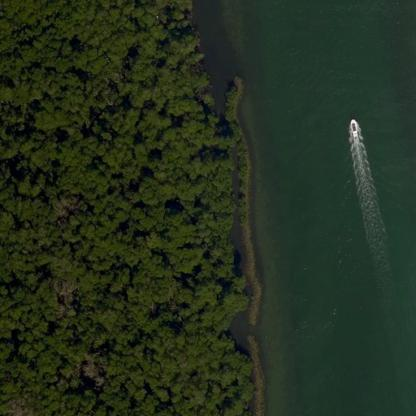ship: (333, 126, 341, 129)
